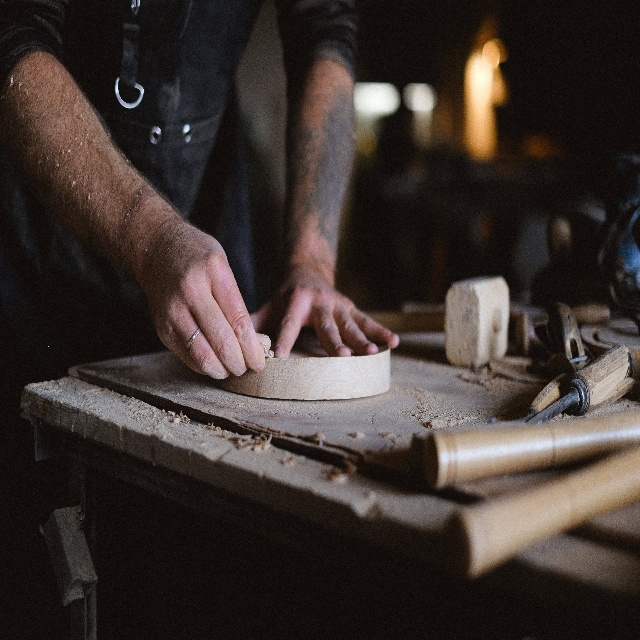Sin_guantes: (144, 216, 274, 384), (248, 258, 400, 361)
